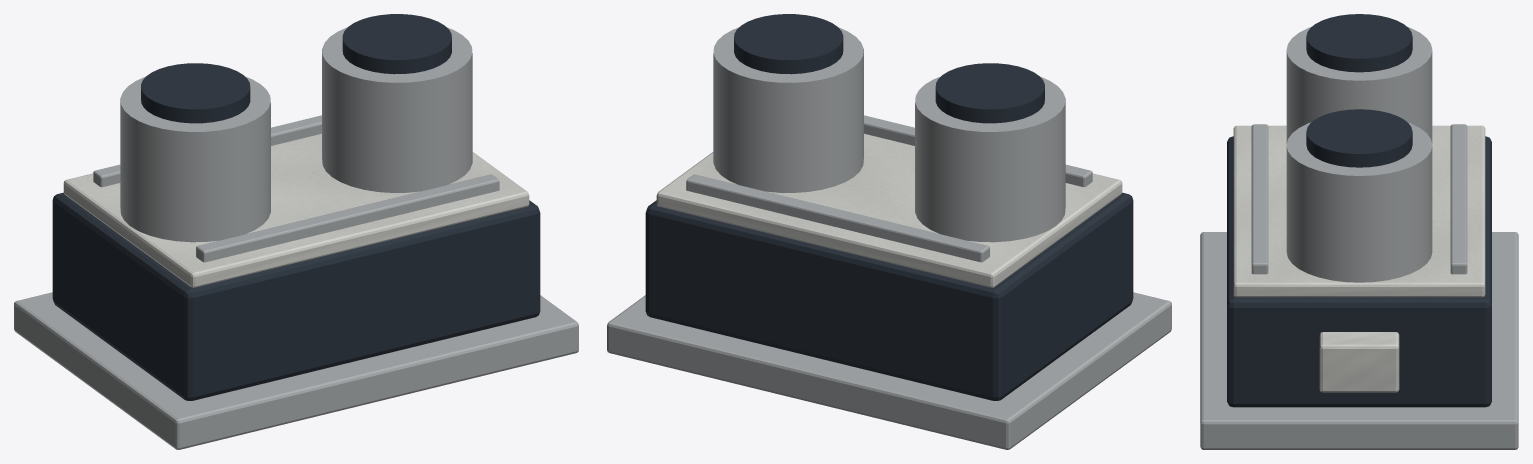
The model's file is telescope_cryocooler.glb.
The picture shows the model from 3 angles, left to right: view 1: azimuth 30°, elevation 25°; view 2: azimuth 150°, elevation 25°; view 3: azimuth 270°, elevation 25°; orthographic projection. The views are drawn at different scales.
Visible parts, largest first — view 1: Cooler_Controller, Cooler_Mount, Cooler_Compressor, Cooler_Compressor.001, Cooler_Top, Thermal_Brace, Compressor_Endcap, Compressor_Endcap.001, Thermal_Brace.001; view 2: Cooler_Controller, Cooler_Mount, Cooler_Compressor, Cooler_Compressor.001, Cooler_Top, Thermal_Brace.001, Compressor_Endcap, Compressor_Endcap.001, Thermal_Brace; view 3: Cooler_Controller, Cooler_Mount, Cooler_Compressor.001, Cooler_Top, Cooler_Compressor, Compressor_Endcap.001, Compressor_Endcap, Cooler_Connector, Thermal_Brace, Thermal_Brace.001.
Boxes of the visible parts, box(x1,y1,x2,y2) form: Cooler_Controller: box(52, 192, 540, 400); Cooler_Mount: box(14, 292, 578, 449); Cooler_Compressor: box(120, 76, 270, 242); Cooler_Compressor.001: box(322, 27, 472, 192); Cooler_Top: box(63, 133, 529, 287); Thermal_Brace: box(196, 174, 499, 262); Compressor_Endcap: box(141, 63, 250, 123); Compressor_Endcap.001: box(342, 14, 451, 74); Thermal_Brace.001: box(93, 115, 321, 187); Cooler_Controller: box(645, 192, 1133, 400); Cooler_Mount: box(607, 292, 1171, 449); Cooler_Compressor: box(915, 76, 1065, 242); Cooler_Compressor.001: box(713, 27, 863, 192); Cooler_Top: box(656, 133, 1122, 287); Thermal_Brace.001: box(686, 174, 989, 262); Compressor_Endcap: box(935, 63, 1044, 123); Compressor_Endcap.001: box(734, 14, 843, 74); Thermal_Brace: box(864, 115, 1092, 187); Cooler_Controller: box(1227, 136, 1491, 407); Cooler_Mount: box(1200, 232, 1518, 449); Cooler_Compressor.001: box(1286, 122, 1432, 282); Cooler_Top: box(1233, 125, 1485, 297); Cooler_Compressor: box(1286, 27, 1432, 143); Compressor_Endcap.001: box(1306, 109, 1412, 167); Compressor_Endcap: box(1306, 14, 1412, 72); Cooler_Connector: box(1319, 332, 1399, 392); Thermal_Brace: box(1251, 124, 1268, 274); Thermal_Brace.001: box(1450, 124, 1467, 274).
Bounding box in the file's own units: 0.69 × 0.4525 × 0.48.
Materials: 3 (1 with a texture image).
